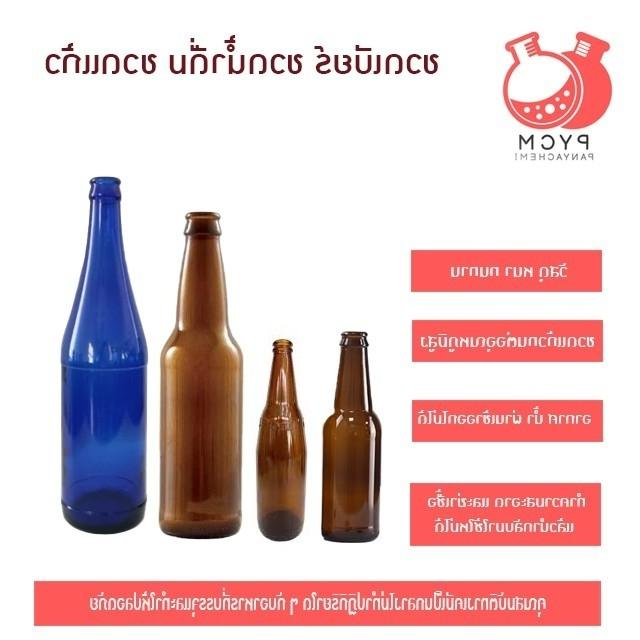glass: (59, 172, 149, 536), (157, 208, 245, 542), (321, 332, 381, 544), (252, 336, 310, 544)
